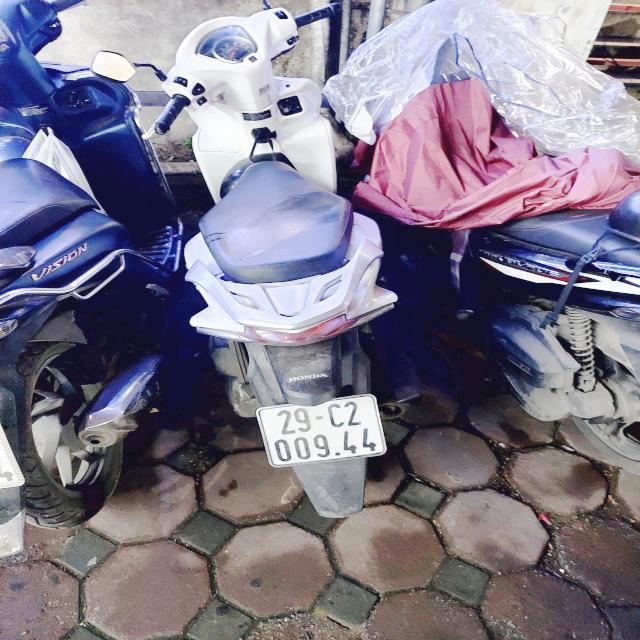license_plate: (255, 393, 389, 471)
